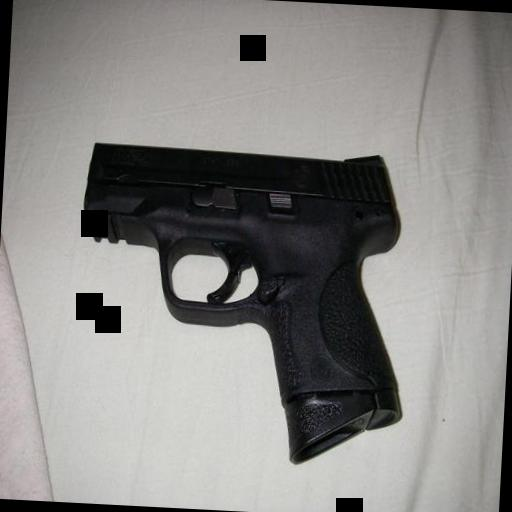Handgun: (66, 134, 418, 473)
